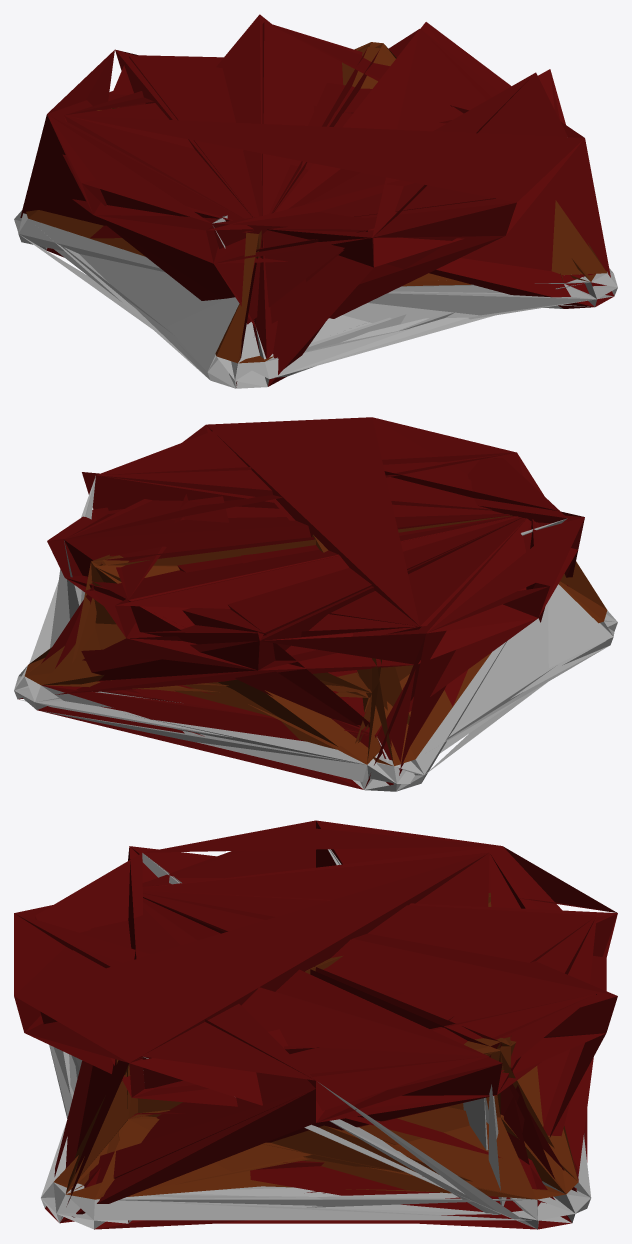
The model's file is S.S._Dolphin_Main_Engine_Part_4.obj.
3 views of the same model, one above another, from view 1: azimuth 30°, elevation 25°; view 2: azimuth 150°, elevation 25°; view 3: azimuth 270°, elevation 25° (orthographic). The views are drawn at different scales.
Parts seen in each view (by area): view 1: S.S._Dolphin_Main_Engine_Part_4; view 2: S.S._Dolphin_Main_Engine_Part_4; view 3: S.S._Dolphin_Main_Engine_Part_4.
Part boxes in pixels (x1,y1,x2,y2): S.S._Dolphin_Main_Engine_Part_4: (14,14,617,388); S.S._Dolphin_Main_Engine_Part_4: (14,417,617,791); S.S._Dolphin_Main_Engine_Part_4: (14,820,617,1229).
Bounding box in the file's own units: 4.07 × 1.13 × 3.87.
